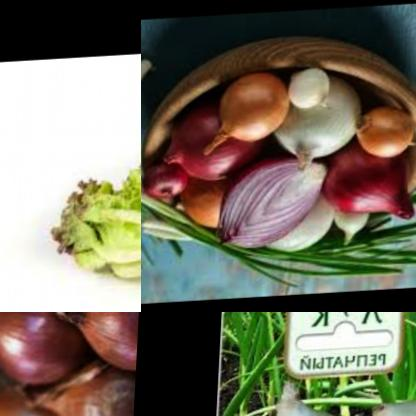onion: (217, 157, 339, 255), (0, 312, 109, 409), (163, 106, 275, 190), (279, 83, 363, 179), (204, 74, 294, 160), (322, 153, 416, 233), (49, 312, 141, 381), (23, 362, 138, 416), (231, 380, 370, 416), (277, 203, 348, 266), (174, 174, 243, 238), (290, 57, 350, 123), (351, 107, 416, 165), (330, 198, 378, 254), (345, 385, 416, 416), (141, 162, 196, 200)
salad: (44, 133, 141, 306)
